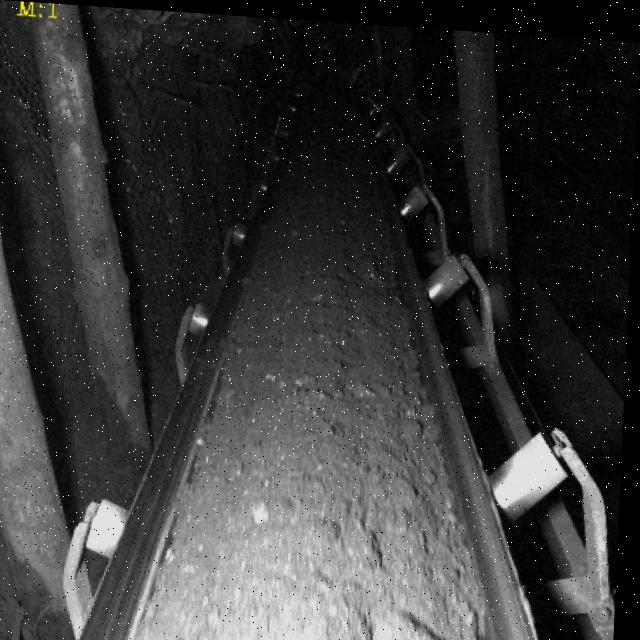large_sized_coal: (380, 602, 459, 640)
